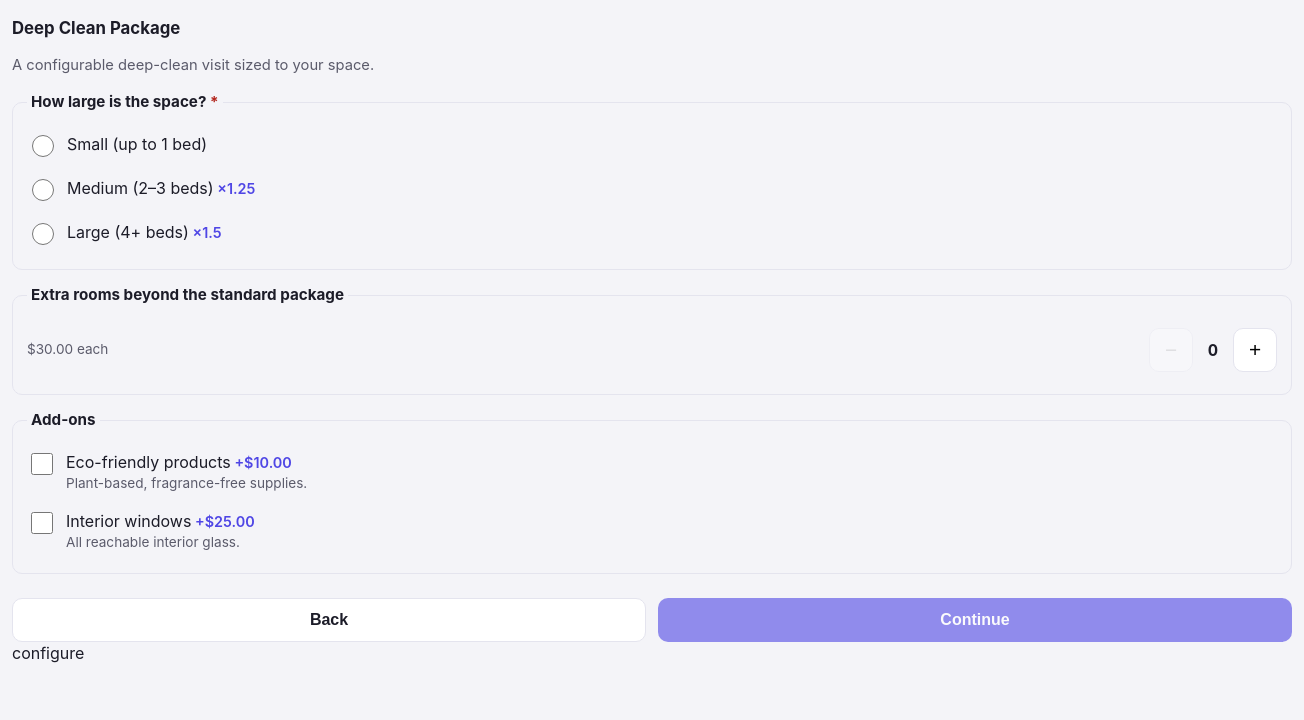
Scenario: Configurator › blocks Continue with an inline message until the required question is answered
# Attempting to continue keeps the user on the step and surfaces the error.
What coordinates should you click on to do the following:
click the button "Continue"
I would click on:
 (975, 620)
Its box is [658, 598, 1292, 642].
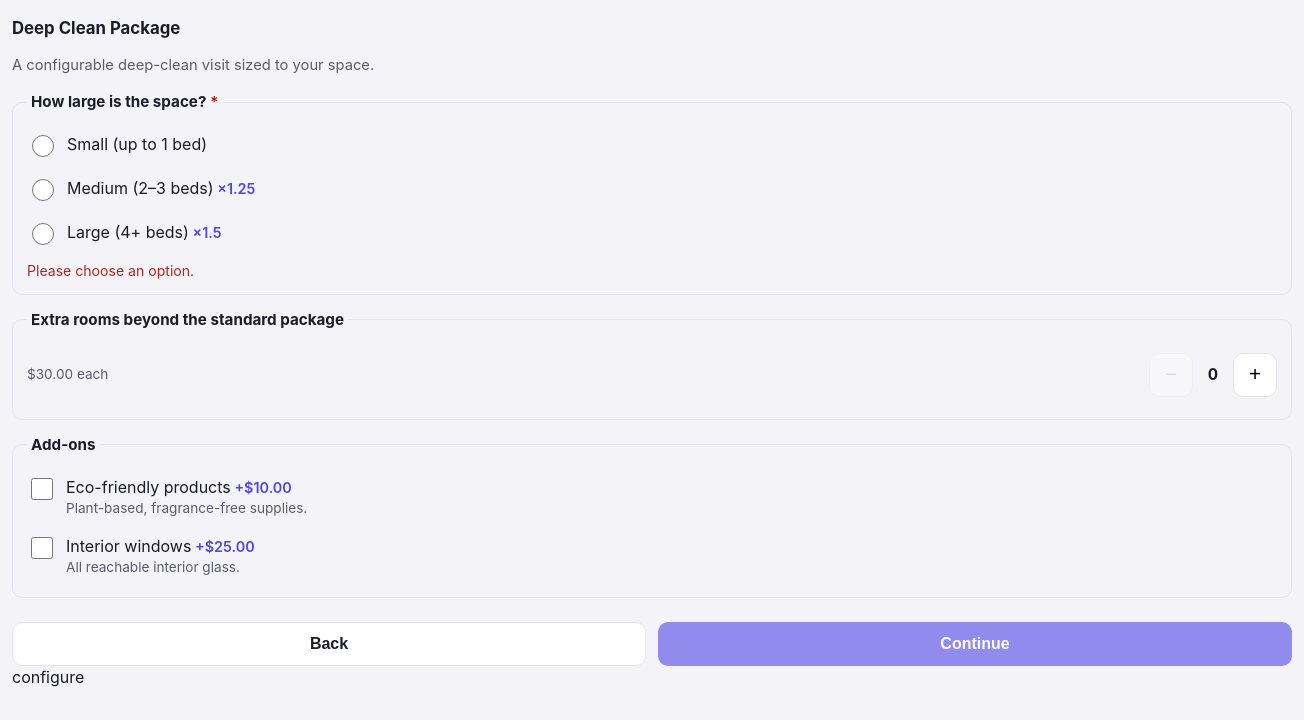
Expected: the text with test id "current-step" reads "configure", [12, 667, 84, 687]
Now the text "Please choose an option." is shown, box [27, 262, 194, 279]
# Answering the required single-choice question unblocks progress.
What coordinates should you click on to do the following:
click the radio button labelled "Medium (2–3 beds) ×1.25"
I would click on:
 (43, 190)
Its box is [32, 179, 54, 201].
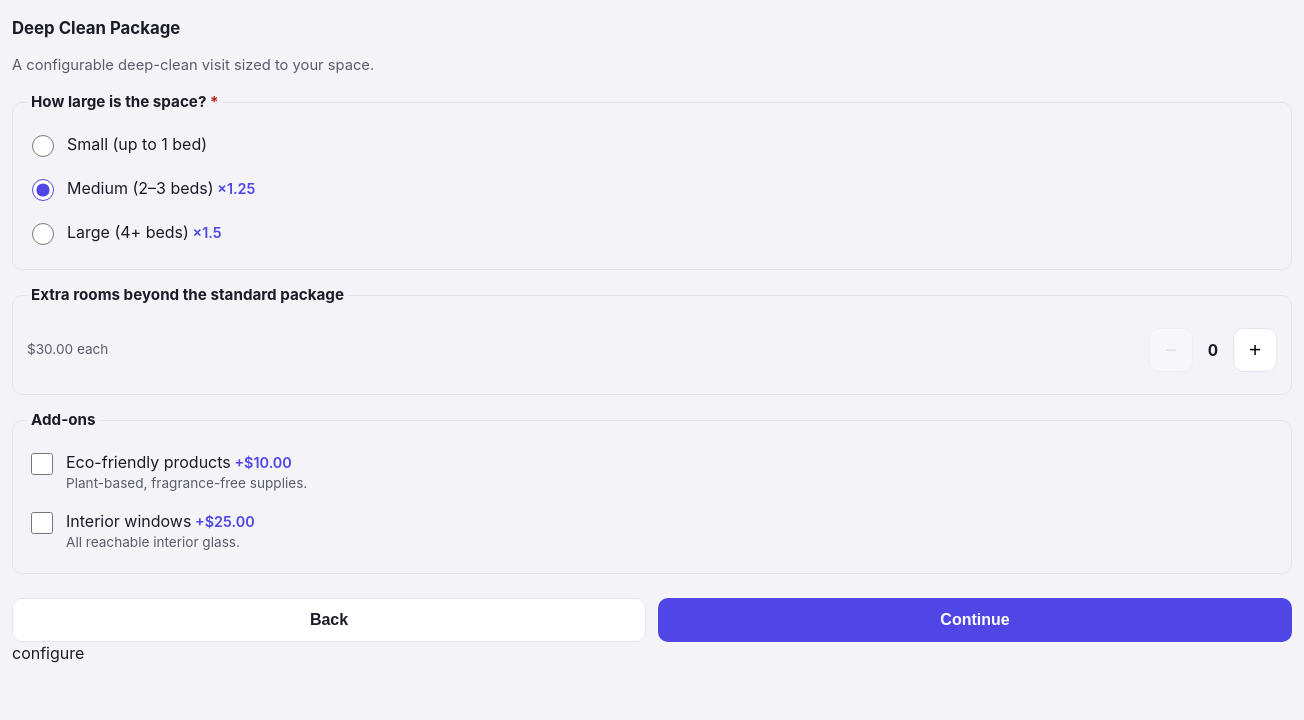
Now the text "Please choose an option." is gone
What coordinates should you click on to do the following:
click the button "Continue"
I would click on:
 (975, 620)
Its box is [658, 598, 1292, 642].
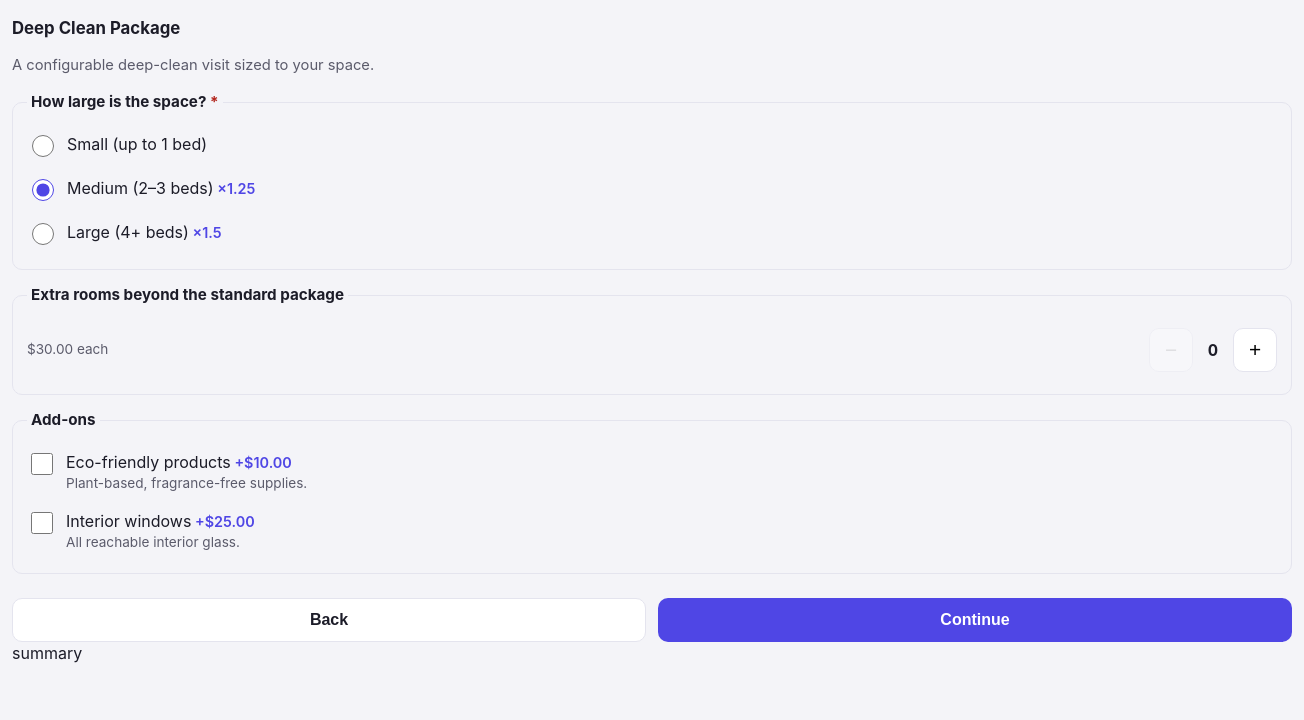
Now the text with test id "current-step" reads "summary", box [12, 643, 82, 663]
